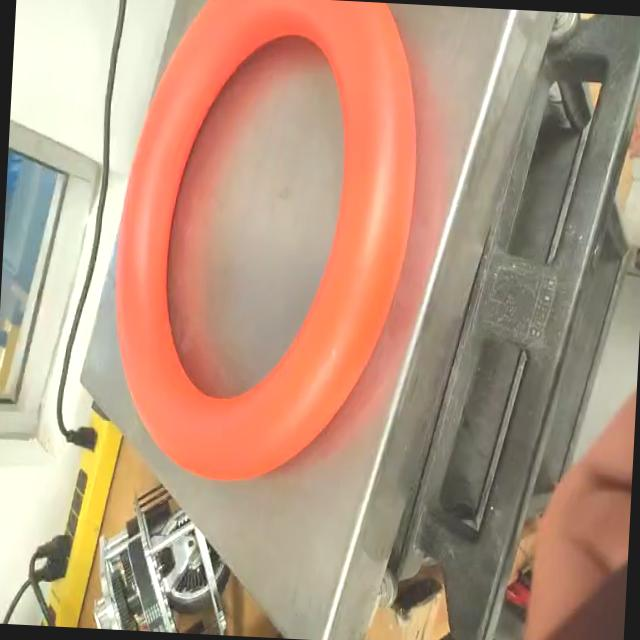note: (98, 0, 433, 497)
